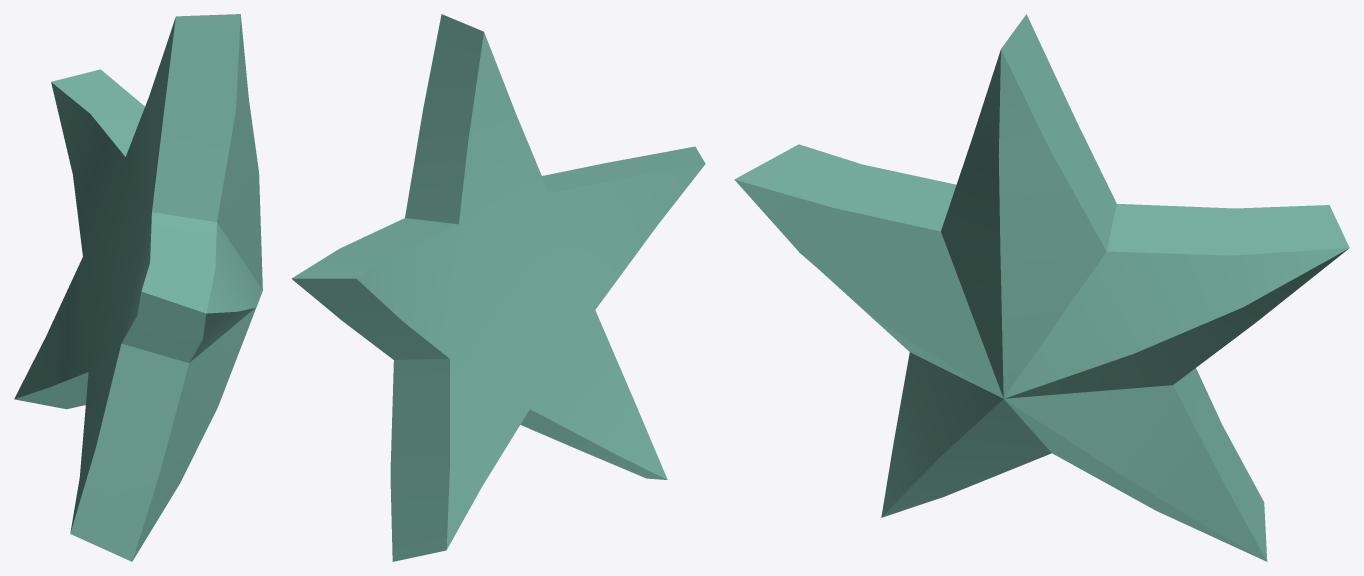
Rendered from TR4_Frame_Star.001 2.glb.
3 views of the same model, side by side, from view 1: azimuth 30°, elevation 25°; view 2: azimuth 150°, elevation 25°; view 3: azimuth 270°, elevation 25° (orthographic). The views are drawn at different scales.
Visible parts, largest first — view 1: TR4_Frame_Star.001; view 2: TR4_Frame_Star.001; view 3: TR4_Frame_Star.001.
Part boxes in pixels (box(x1,y1,x2,y2)): TR4_Frame_Star.001: box(14, 14, 262, 561); TR4_Frame_Star.001: box(291, 14, 705, 561); TR4_Frame_Star.001: box(734, 14, 1349, 561).
Bounding box in the file's own units: 0.2194 × 0.4292 × 0.4239.
